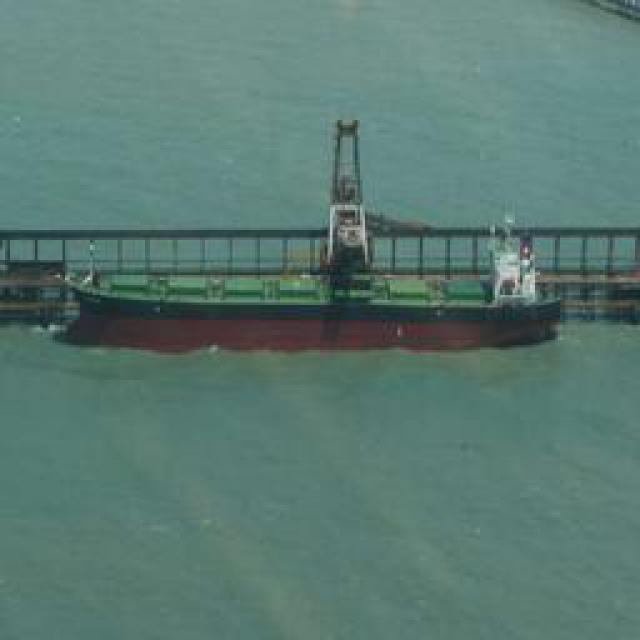Ship: (66, 270, 559, 350)
